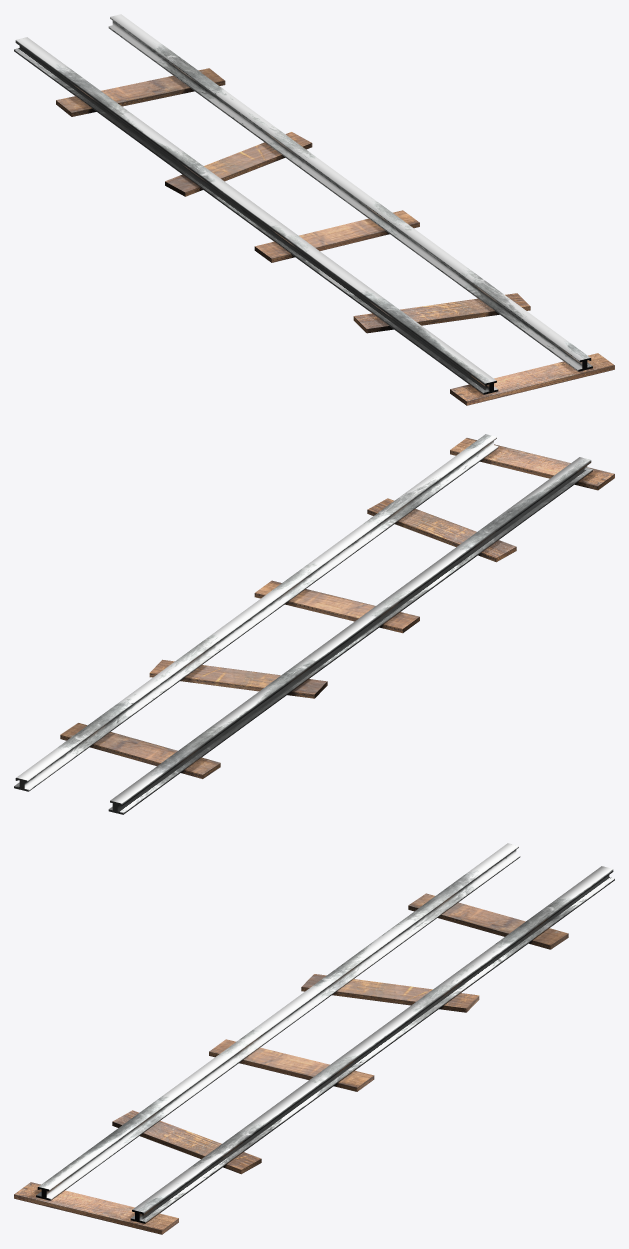
Rendered from rails_segment.dae.
The picture shows the model from 3 angles, top to bottom: view 1: azimuth 30°, elevation 25°; view 2: azimuth 150°, elevation 25°; view 3: azimuth 330°, elevation 25°; orthographic projection.
Parts seen in each view (by area): view 1: Rails, WoodenCrossbars; view 2: Rails, WoodenCrossbars; view 3: Rails, WoodenCrossbars.
Boxes of the visible parts, <box> form: Rails: <box>14,14,592,394</box>; WoodenCrossbars: <box>56,68,614,405</box>; Rails: <box>14,434,592,814</box>; WoodenCrossbars: <box>60,438,614,778</box>; Rails: <box>36,843,614,1223</box>; WoodenCrossbars: <box>14,893,568,1234</box>.
Bounding box in the file's own units: 3.68 × 20.11 × 0.3552.
Materials: 2 (2 with a texture image).
